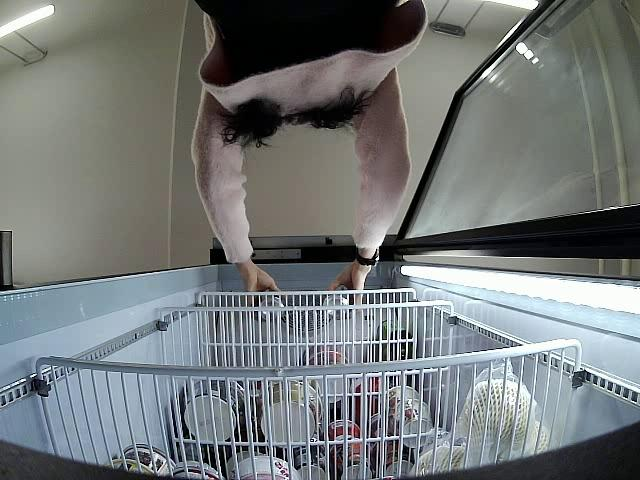00_hand: (327, 265, 372, 309), (241, 263, 281, 307)
14_welchsGrape: (251, 285, 289, 322), (321, 282, 356, 322)
